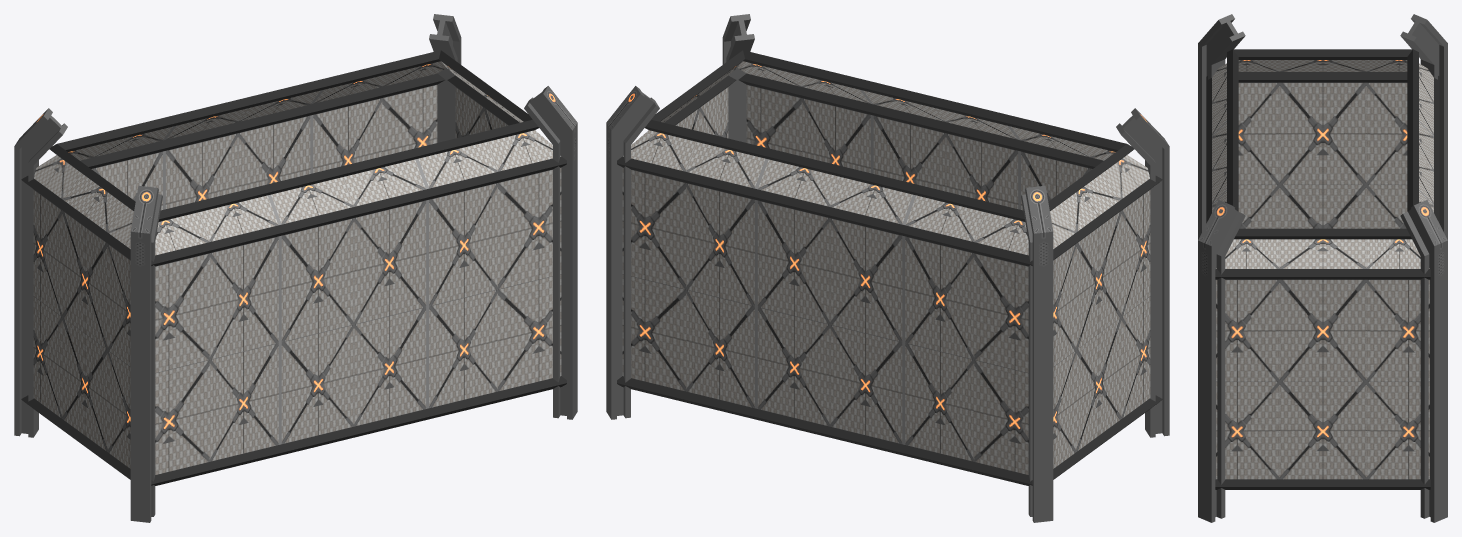
3 renders of one model, left to right at view 1: azimuth 30°, elevation 25°; view 2: azimuth 150°, elevation 25°; view 3: azimuth 270°, elevation 25°, orthographic. The views are drawn at different scales.
Parts seen in each view (by area): view 1: Plane.006; view 2: Plane.006; view 3: Plane.006.
Part boxes in pixels (x1,y1,x2,y2): Plane.006: (14, 14, 577, 522); Plane.006: (606, 14, 1169, 522); Plane.006: (1198, 14, 1447, 522).
Bounding box in the file's own units: 40.45 × 27.9 × 20.45.
1 material, 1 textured.
